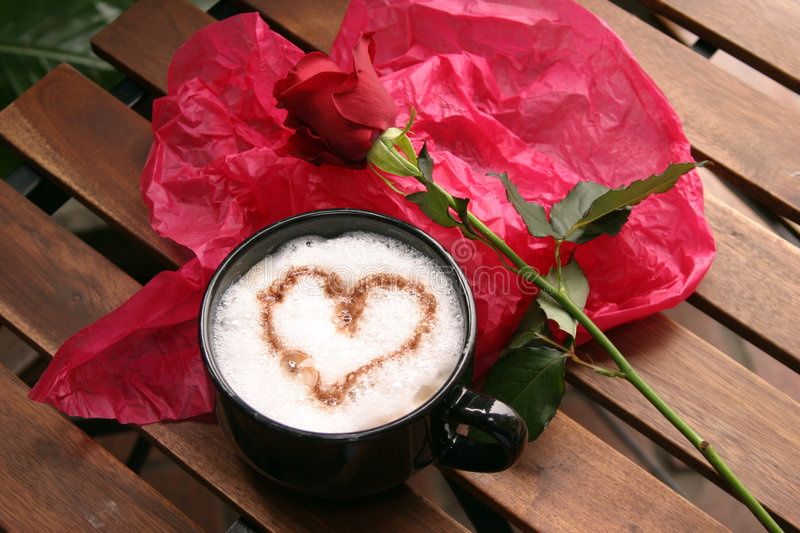RedRose: (272, 34, 408, 172)
